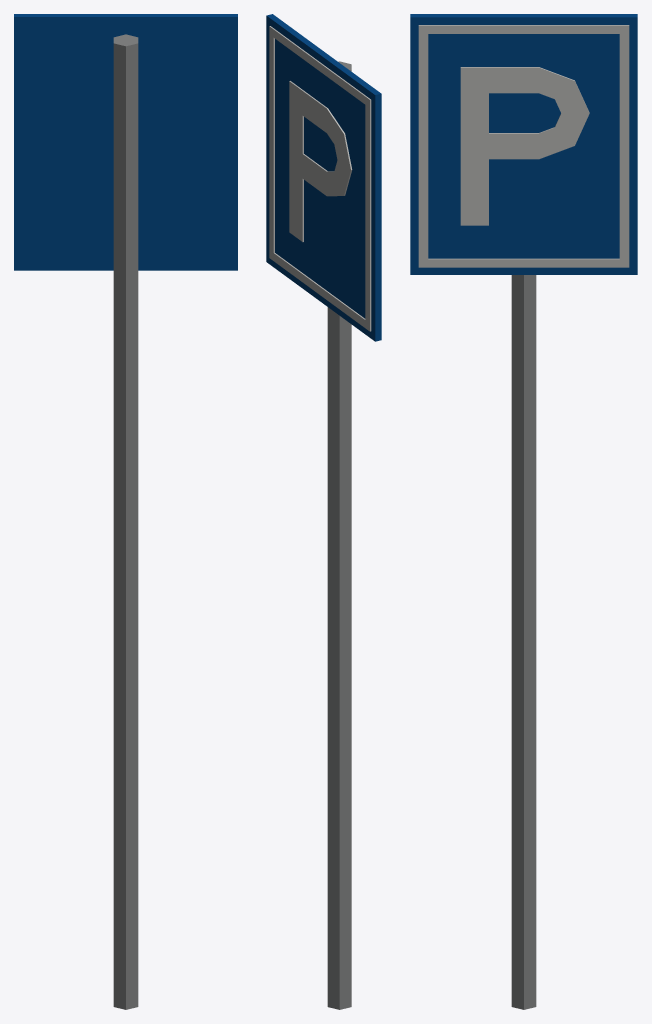
Rendered from SM_Prop_road_laybysign_0_LOD1.glb.
3 views of the same model, side by side, from view 1: azimuth 90°, elevation 25°; view 2: azimuth 210°, elevation 25°; view 3: azimuth 270°, elevation 25° (orthographic). The views are drawn at different scales.
Parts seen in each view (by area): view 1: SM_Prop_road_laybysign_0_LOD1; view 2: SM_Prop_road_laybysign_0_LOD1; view 3: SM_Prop_road_laybysign_0_LOD1.
Part boxes in pixels (box(x1,y1,x2,y2)): SM_Prop_road_laybysign_0_LOD1: box(14, 14, 237, 1009); SM_Prop_road_laybysign_0_LOD1: box(266, 14, 381, 1009); SM_Prop_road_laybysign_0_LOD1: box(410, 14, 637, 1009).
Bounding box in the file's own units: 0.102 × 2.9 × 0.6.
